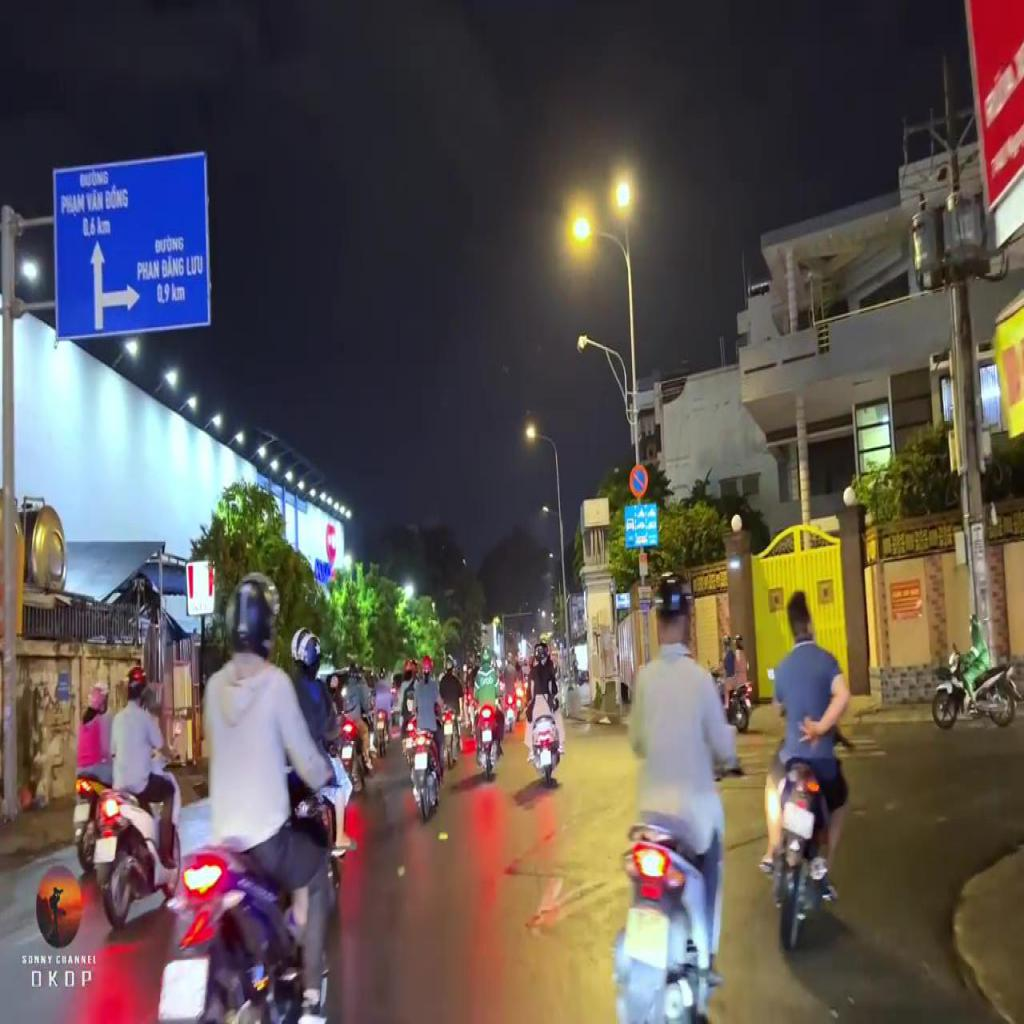cam_do_xe: (630, 465, 647, 499)
khac: (52, 155, 210, 343)
lan_duong_cho_tung_xe_theo_vach_ke_duong: (623, 504, 658, 548)
